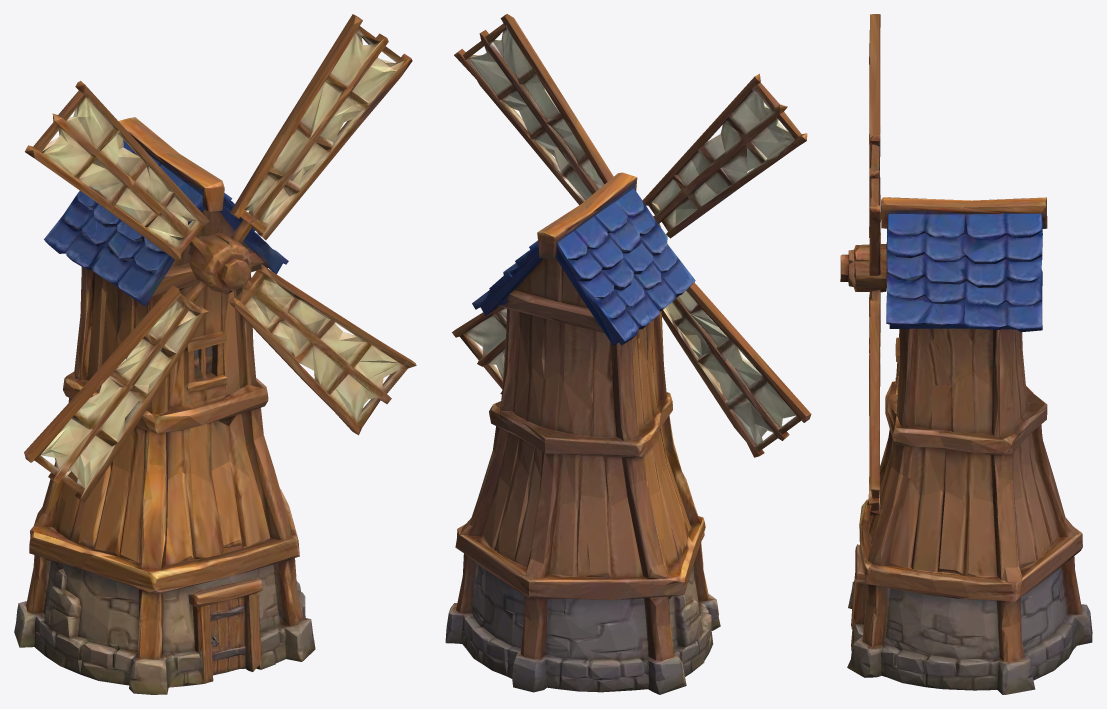
The model's file is oc_windmill.glb.
3 renders of one model, left to right at view 1: azimuth 30°, elevation 25°; view 2: azimuth 150°, elevation 25°; view 3: azimuth 270°, elevation 25°, orthographic. The views are drawn at different scales.
Parts seen in each view (by area): view 1: W_windmill; view 2: W_windmill; view 3: W_windmill.
Part boxes in pixels (left/top/right/bottom): W_windmill: left=14, top=14, right=416, bottom=694; W_windmill: left=445, top=14, right=811, bottom=694; W_windmill: left=840, top=14, right=1092, bottom=694.
Bounding box in the file's own units: 9.18 × 13.98 × 5.67.
Materials: 1 (1 with a texture image).
